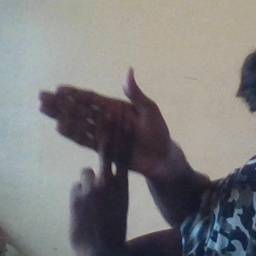N: (38, 64, 166, 202)
